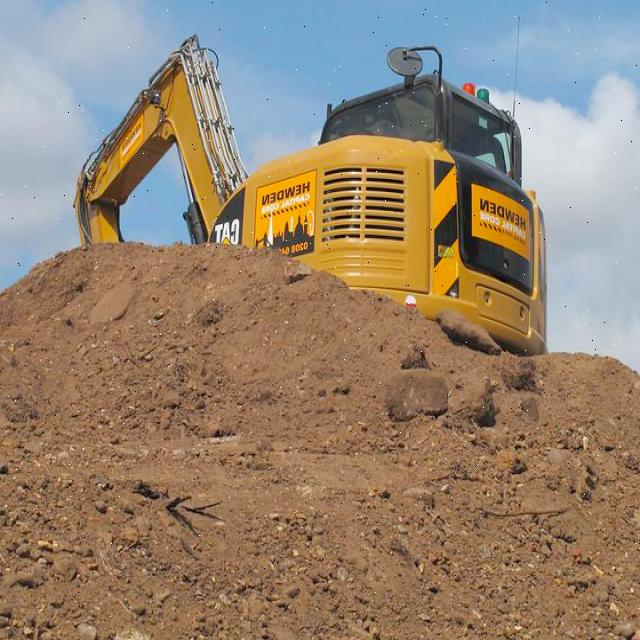Excavator: (73, 33, 547, 372)
